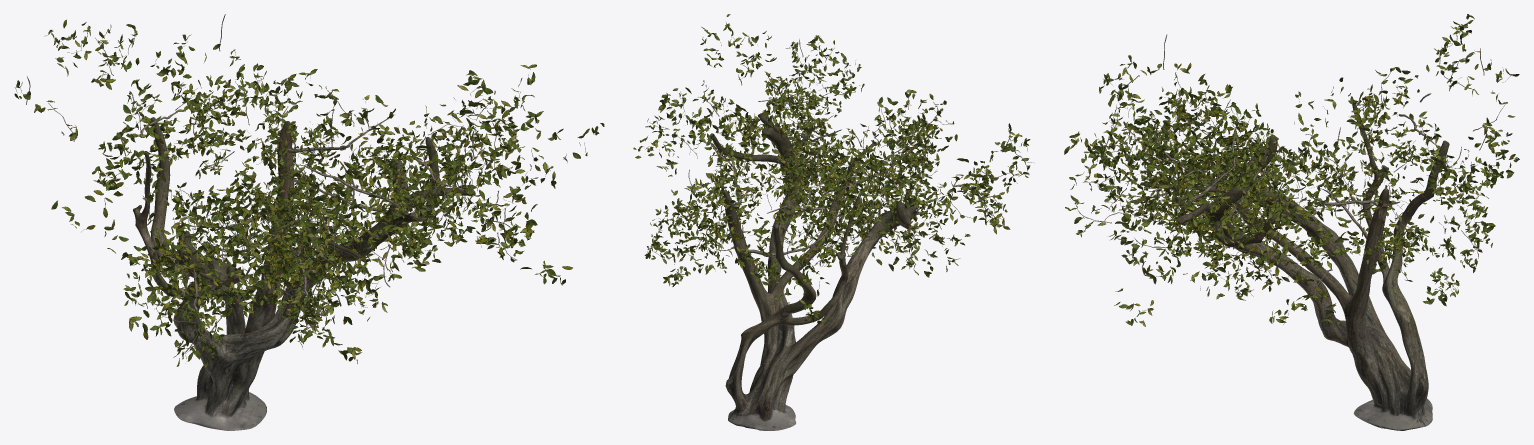
The model's file is island_tree_02_lod0.gltf.
3 renders of one model, left to right at view 1: azimuth 30°, elevation 25°; view 2: azimuth 150°, elevation 25°; view 3: azimuth 270°, elevation 25°, orthographic. The views are drawn at different scales.
Parts seen in each view (by area): view 1: island_tree_02_LOD0; view 2: island_tree_02_LOD0; view 3: island_tree_02_LOD0.
Boxes of the visible parts, box(x1,y1,x2,y2) form: island_tree_02_LOD0: box(14, 14, 604, 430); island_tree_02_LOD0: box(633, 14, 1033, 430); island_tree_02_LOD0: box(1064, 14, 1519, 430).
Size of the model in its own units: 3.88 by 3.38 by 4.01.
Materials: 3 (3 with a texture image).
